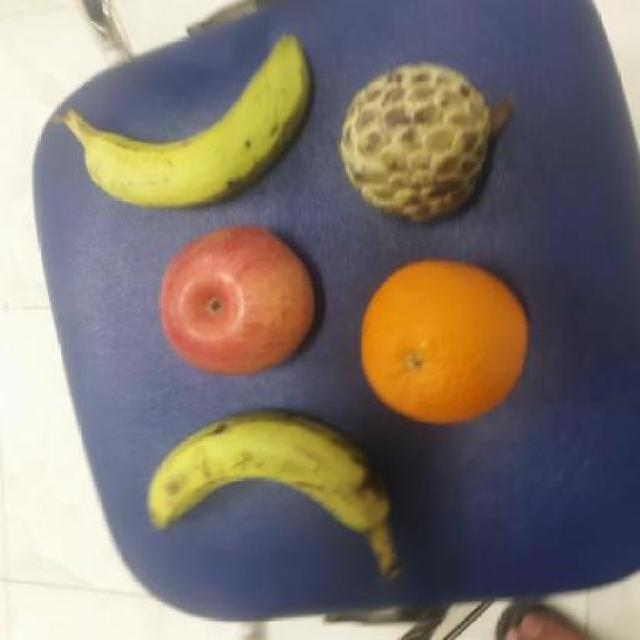apple: (157, 220, 320, 378)
banana: (63, 37, 314, 214), (140, 404, 394, 544)
oren: (356, 258, 532, 424)
sugar apple: (338, 59, 496, 222)
